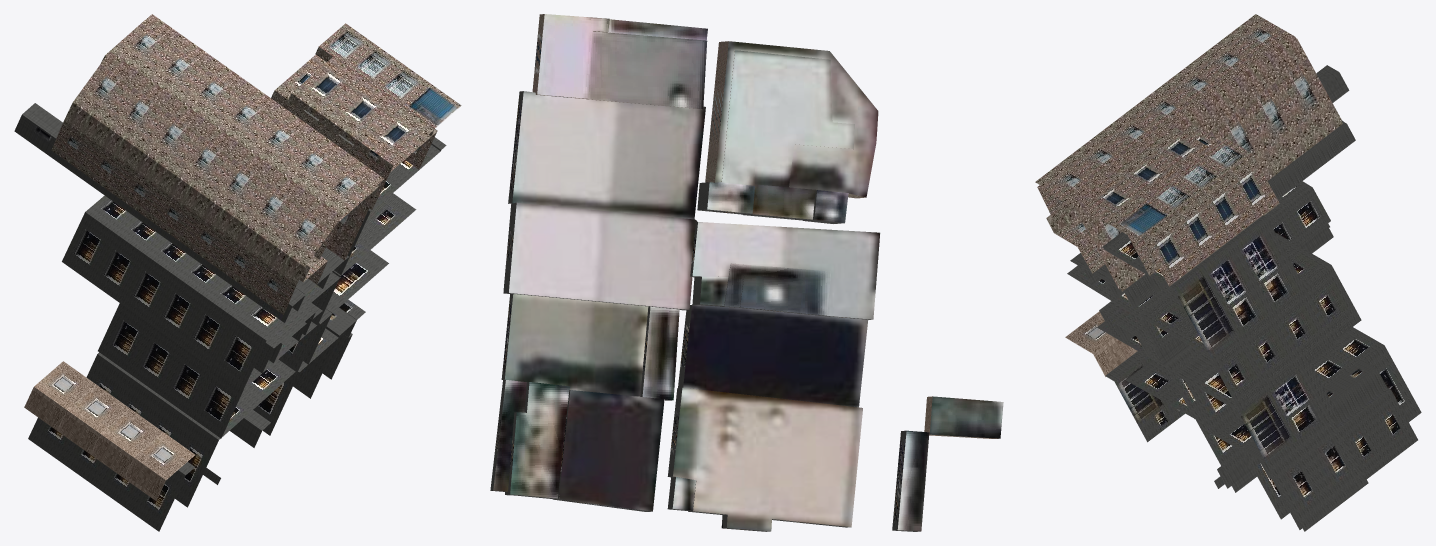
3 renders of one model, left to right at view 1: azimuth 30°, elevation 25°; view 2: azimuth 150°, elevation 25°; view 3: azimuth 270°, elevation 25°, orthographic. The views are drawn at different scales.
Size of the model in its own units: 38.74 by 40.11 by 32.54.
75 materials, 75 textured.
